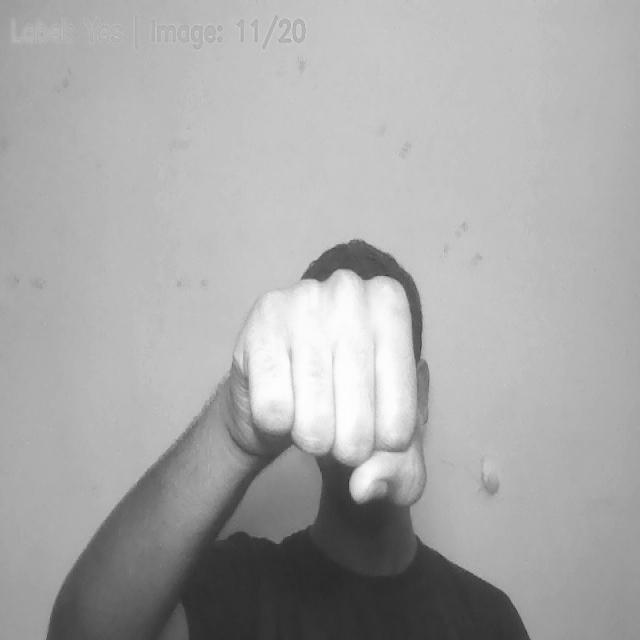Yes: (229, 262, 428, 507)
